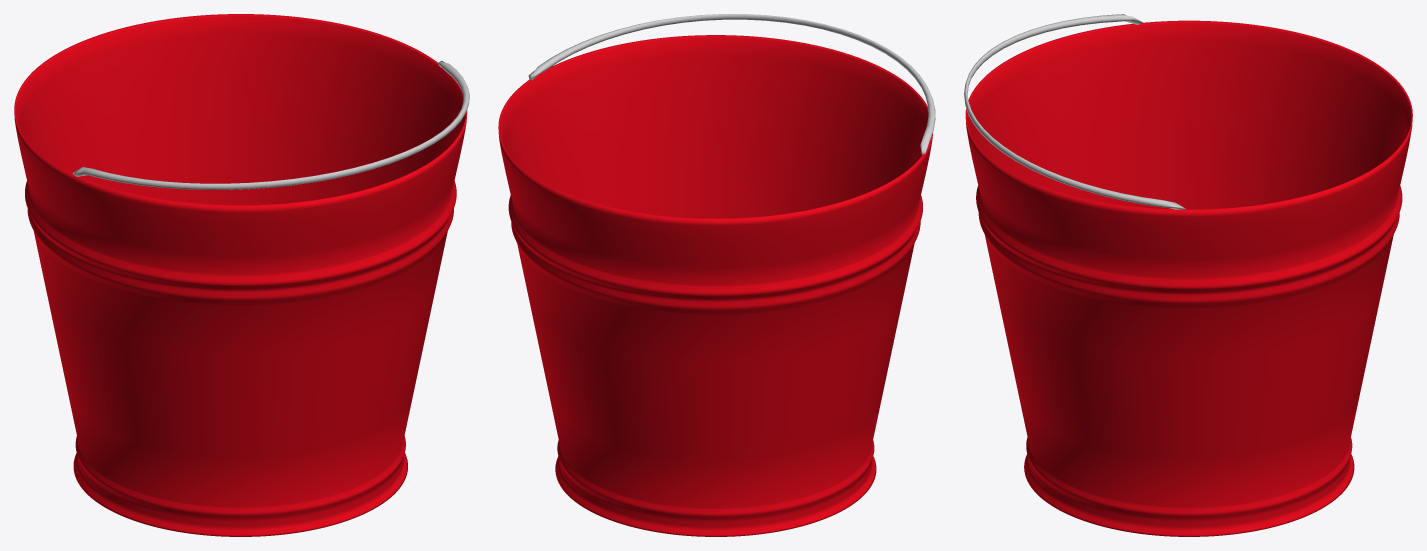
Rendered from Bucket.fbx.
3 renders of one model, left to right at view 1: azimuth 30°, elevation 25°; view 2: azimuth 150°, elevation 25°; view 3: azimuth 270°, elevation 25°, orthographic. The views are drawn at different scales.
Visible parts, largest first — view 1: Окружность; view 2: Окружность; view 3: Окружность.
Boxes of the visible parts, bbox=[...] form: Окружность: bbox=[14, 14, 469, 536]; Окружность: bbox=[498, 14, 935, 536]; Окружность: bbox=[964, 14, 1412, 536].
Size of the model in its own units: 817 by 754 by 815.
